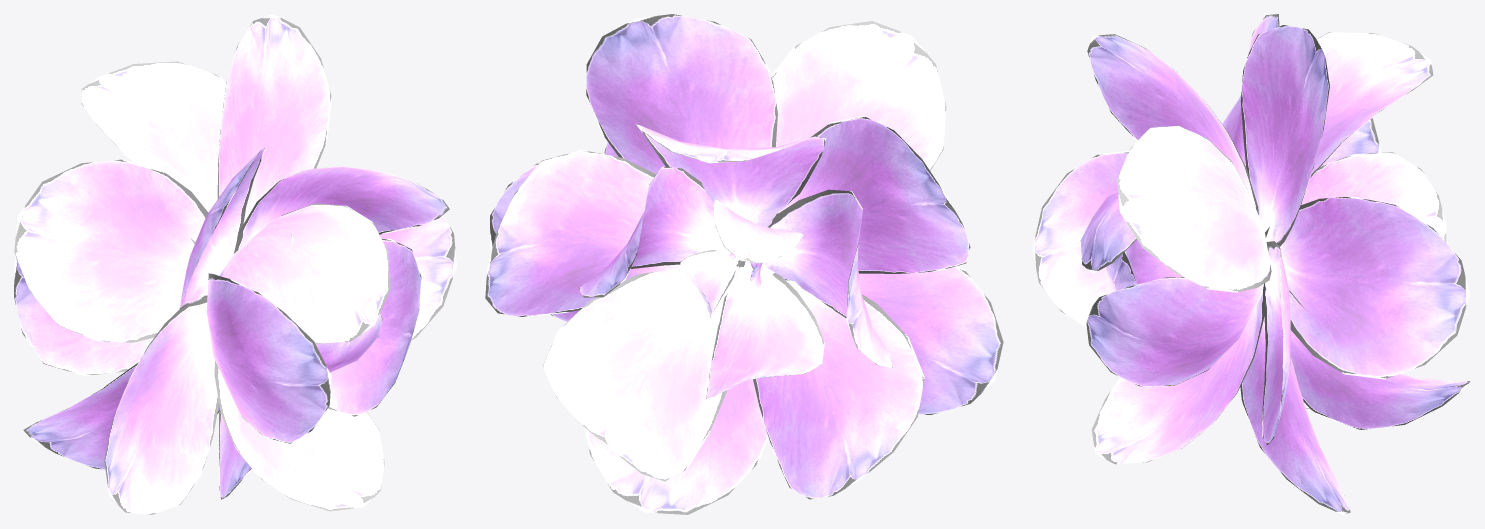
The model's file is asset.glb.
3 views of the same model, side by side, from view 1: azimuth 30°, elevation 25°; view 2: azimuth 150°, elevation 25°; view 3: azimuth 270°, elevation 25° (orthographic). The views are drawn at different scales.
Visible parts, largest first — view 1: timeshift4; view 2: timeshift4; view 3: timeshift4.
Part boxes in pixels (left/top/right/bottom): timeshift4: left=14, top=14, right=456, bottom=514; timeshift4: left=485, top=14, right=1003, bottom=514; timeshift4: left=1032, top=14, right=1470, bottom=514.
Bounding box in the file's own units: 6.04 × 6.09 × 4.99.
